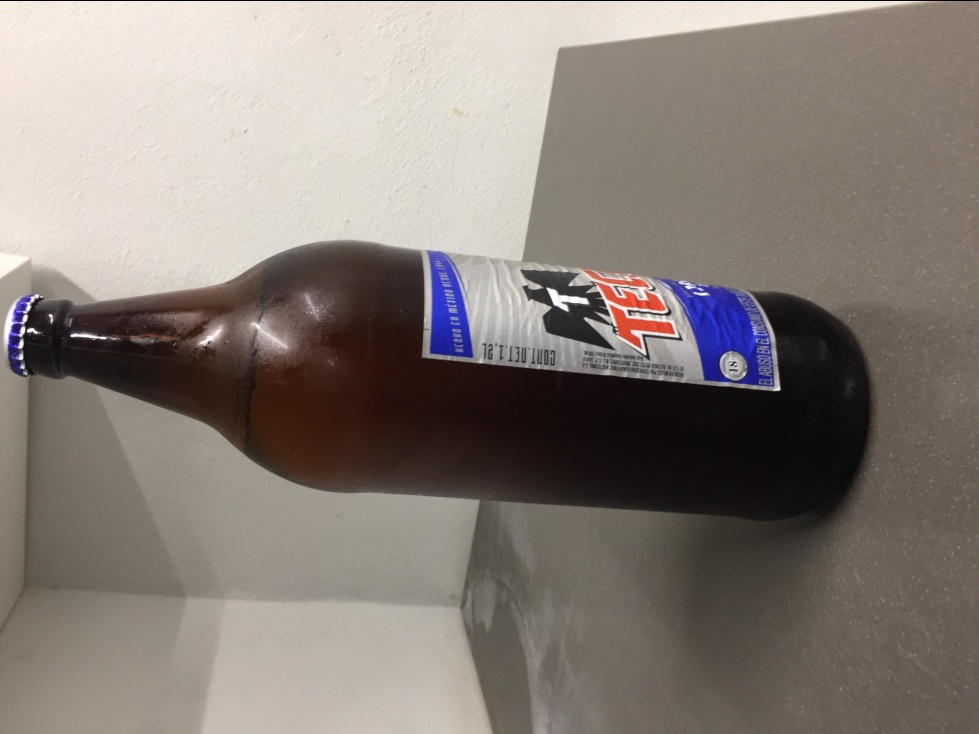tecateC: (6, 235, 869, 518)
